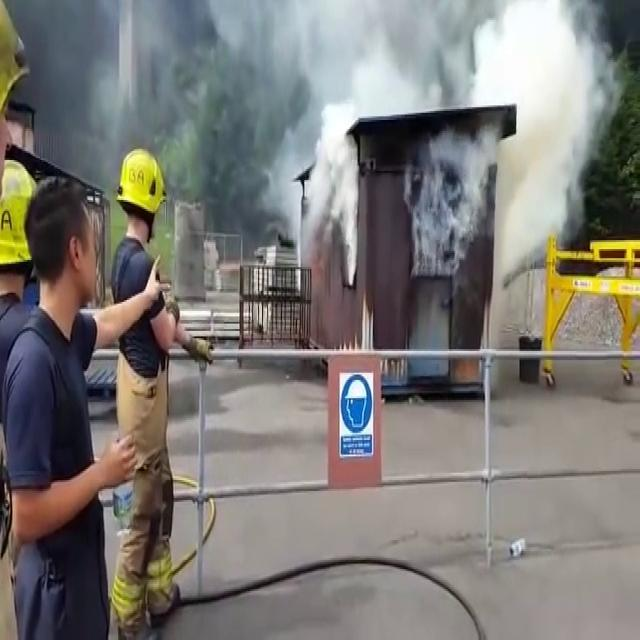Smoke: (530, 8, 608, 253), (300, 6, 518, 90), (294, 113, 378, 251)
